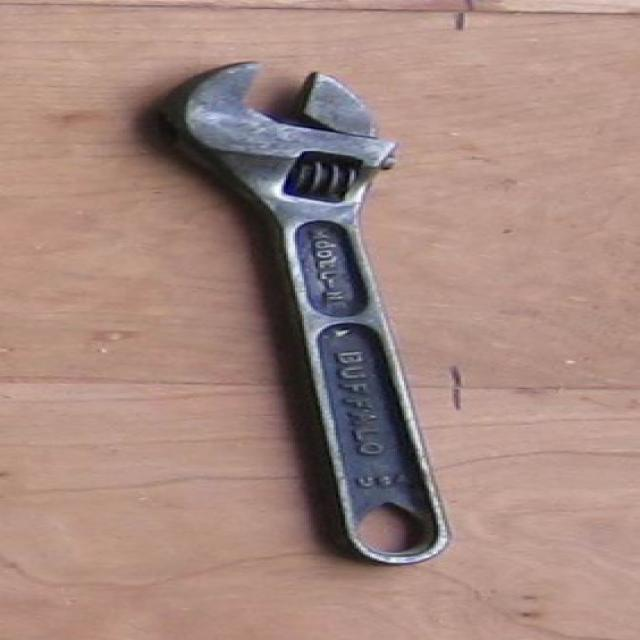wrench: (171, 51, 469, 572)
